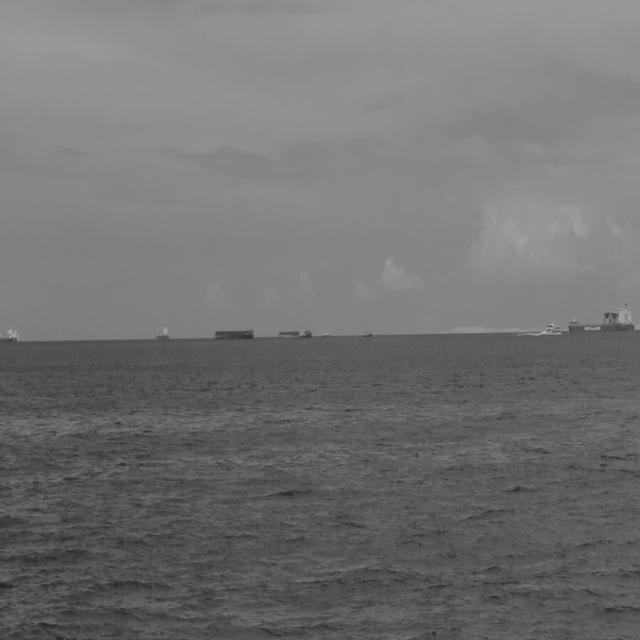ship: (569, 302, 638, 332), (278, 325, 314, 340), (1, 324, 20, 342), (155, 320, 171, 340), (545, 320, 562, 336)
